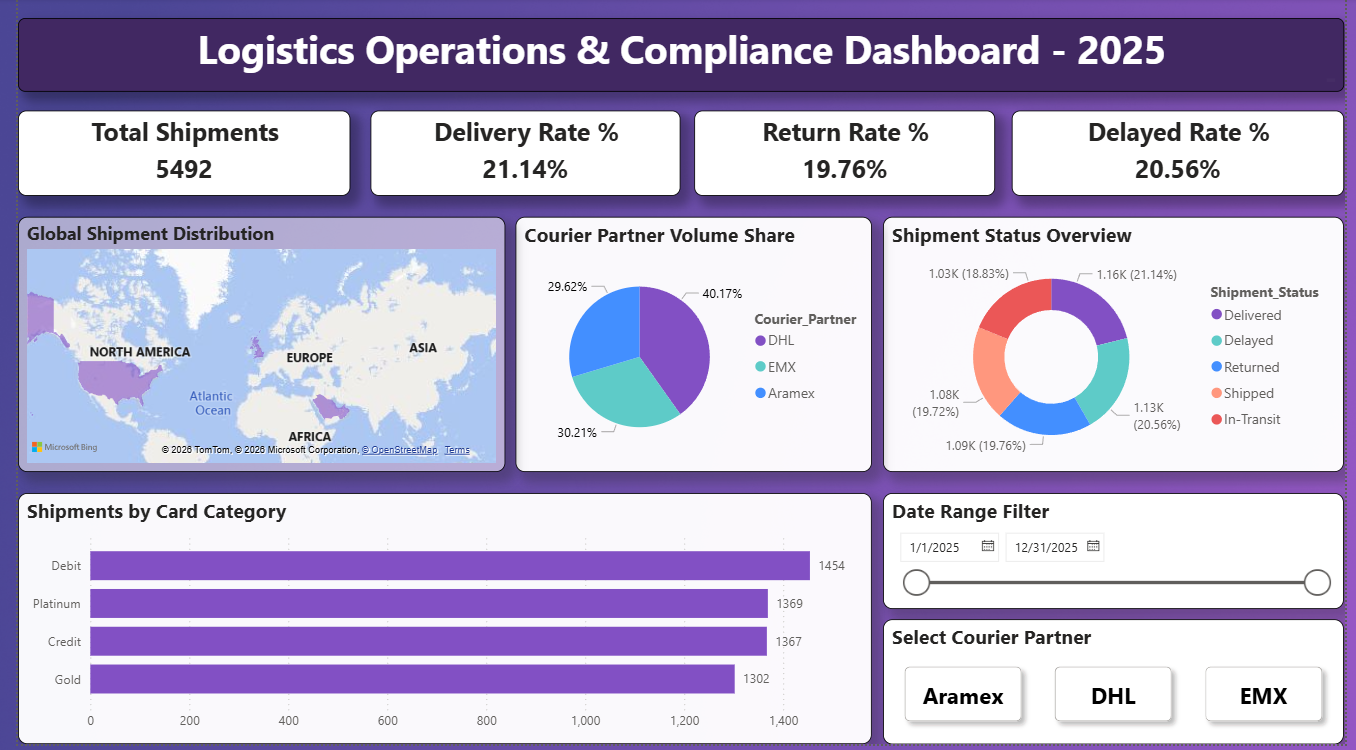

What the dashboard file says about the page in this screenshot:
{"tool":"powerbi","page":{"name":"Logistics Operations & Compliance Dashboard - 2025","canvas":[1280,720],"ordinal":0},"visuals":[{"type":"donutChart","title":"Shipment Status Overview","fields":{"Category":["Logistics_Data.Shipment_Status"],"Y":["CountNonNull(Logistics_Data.Transaction_ID)"]},"box":[834.9,211.1,445.2,246.1],"z":0},{"type":"pieChart","title":"Courier Partner Volume Share","fields":{"Category":["Logistics_Data.Courier_Partner"],"Y":["CountNonNull(Logistics_Data.Transaction_ID)"]},"box":[480.2,211.1,343.8,246.1],"z":1000},{"type":"clusteredBarChart","title":"Shipments by Card Category","fields":{"Category":["Logistics_Data.Card_Type"],"Y":["CountNonNull(Logistics_Data.Card_Type)"]},"box":[0,477.8,824,242.5],"z":2000},{"type":"slicer","title":"Date Range Filter","fields":{"Values":["Logistics_Data.Shipment_Date"]},"box":[834.9,477.8,445.2,112.2],"z":3000},{"type":"advancedSlicerVisual","title":"Select Courier Partner","fields":{"Values":["Logistics_Data.Courier_Partner"]},"box":[834.9,599.6,445.2,120.6],"z":4000},{"type":"filledMap","title":"Global Shipment Distribution","fields":{"Category":["Logistics_Data.Destination_Country"]},"box":[0,211.1,470.5,246.1],"z":5000},{"type":"card","title":"Total Shipments","fields":{"Values":["All Measures.Total Shipments"]},"box":[0,108.6,320.9,82],"z":6000},{"type":"card","title":"Delivery Rate %","fields":{"Values":["All Measures.Delivery Rate %"]},"box":[340.2,108.6,299.2,82],"z":7000},{"type":"card","title":"Return Rate %","fields":{"Values":["All Measures.Return Rate %"]},"box":[652.7,108.6,290.8,82],"z":8000},{"type":"card","title":"Delayed Rate %","fields":{"Values":["All Measures.Delayed Rate %"]},"box":[959.1,108.6,320.9,82],"z":9000},{"type":"textbox","title":"Logistics Operations & Compliance Dashboard - 2025","box":[0,19.3,1280,71.2],"z":10000},{"type":"textbox","box":[1255.9,55.5,18.1,30.2],"z":11000}]}

Visuals, with their boxes in screenshot pixels (x1, y1, x2, y2), scaled from the page's 1280x720 canvas onto the 1356x750 screenshot:
"Shipment Status Overview" donutChart: <box>884,220,1355,476</box>
"Courier Partner Volume Share" pieChart: <box>509,220,873,476</box>
"Shipments by Card Category" clusteredBarChart: <box>0,498,873,749</box>
"Date Range Filter" slicer: <box>884,498,1355,615</box>
"Select Courier Partner" advancedSlicerVisual: <box>884,625,1355,749</box>
"Global Shipment Distribution" filledMap: <box>0,220,498,476</box>
"Total Shipments" card: <box>0,113,340,199</box>
"Delivery Rate %" card: <box>360,113,677,199</box>
"Return Rate %" card: <box>691,113,1000,199</box>
"Delayed Rate %" card: <box>1016,113,1355,199</box>
"Logistics Operations & Compliance Dashboard - 2025" textbox: <box>0,20,1355,94</box>
textbox: <box>1330,58,1350,89</box>
